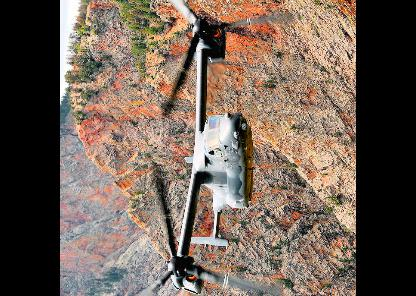Tornado: (86, 0, 292, 293)
